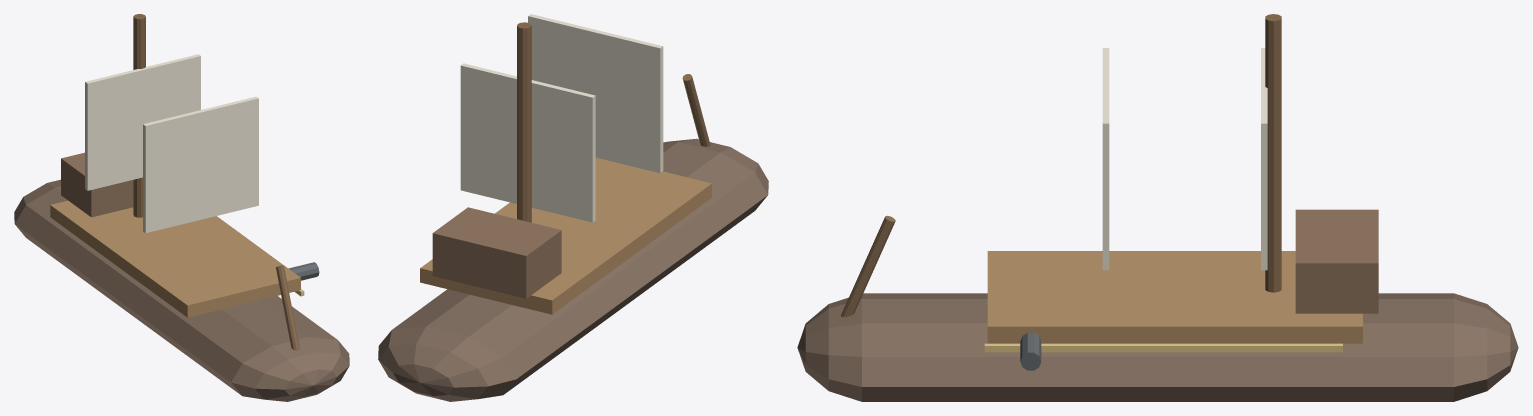
File: ship_starter_medium_m201.glb
3 views of the same model, side by side, from view 1: azimuth 30°, elevation 25°; view 2: azimuth 150°, elevation 25°; view 3: azimuth 270°, elevation 25° (orthographic). The views are drawn at different scales.
Visible parts, largest first — view 1: Hull, Deck, Sail0, Sail1, Cabin, Mast, Bowsprit, Cannon; view 2: Hull, Sail1, Deck, Sail0, Cabin, Mast, Bowsprit; view 3: Hull, Deck, Cabin, Mast, Trim, Sail0, Sail1, Bowsprit, Cannon.
Part boxes in pixels (x1,y1,x2,y2): Hull: [14, 179, 349, 401]; Deck: [50, 200, 300, 317]; Sail0: [143, 96, 258, 233]; Sail1: [85, 54, 200, 190]; Cabin: [61, 152, 133, 217]; Mast: [133, 14, 145, 217]; Bowsprit: [275, 265, 299, 350]; Cannon: [288, 262, 319, 280]; Hull: [378, 138, 768, 401]; Sail1: [460, 63, 595, 222]; Deck: [420, 157, 711, 314]; Sail0: [528, 14, 663, 172]; Cabin: [432, 207, 561, 298]; Mast: [517, 22, 531, 222]; Bowsprit: [682, 74, 710, 146]; Hull: [797, 293, 1518, 401]; Deck: [987, 251, 1362, 343]; Cabin: [1295, 209, 1378, 313]; Mast: [1265, 14, 1281, 292]; Trim: [984, 343, 1342, 352]; Sail0: [1102, 48, 1109, 270]; Sail1: [1261, 48, 1267, 270]; Bowsprit: [841, 215, 895, 317]; Cannon: [1020, 332, 1041, 370].
Bounding box in the file's own units: 2 × 3.5 × 6.24.
